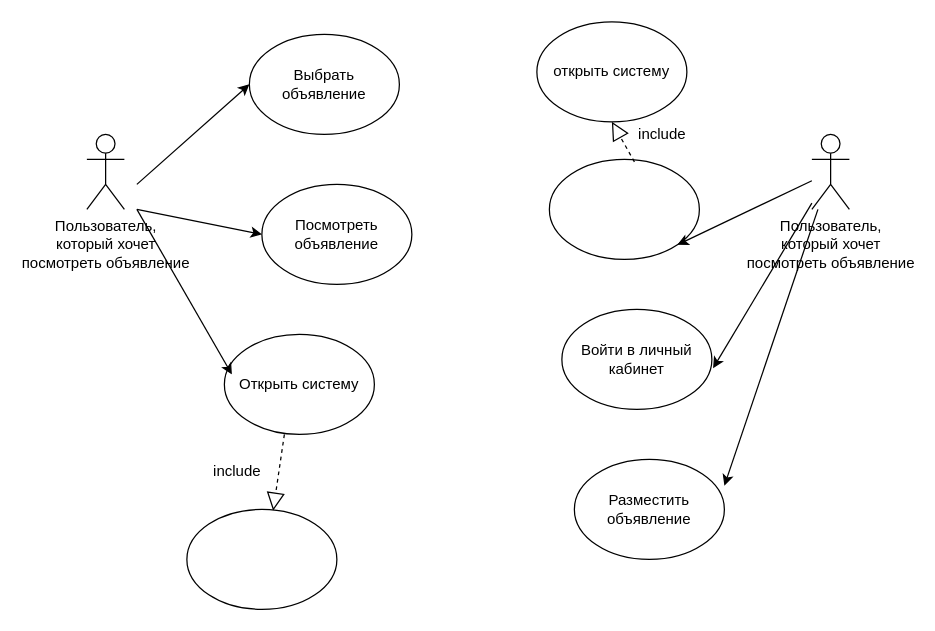
The diagram is 935 pixels wide and 631 high, and some of its shapes have lost their labels. The centre of each missing label's shape, as x and y in pixels:
"Зарегистрироваться в системе" goes at [623,208].
"Открыть браузер на устройстве и найти систему" goes at [261,558].
